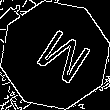M_SW: (22, 21, 88, 89)
